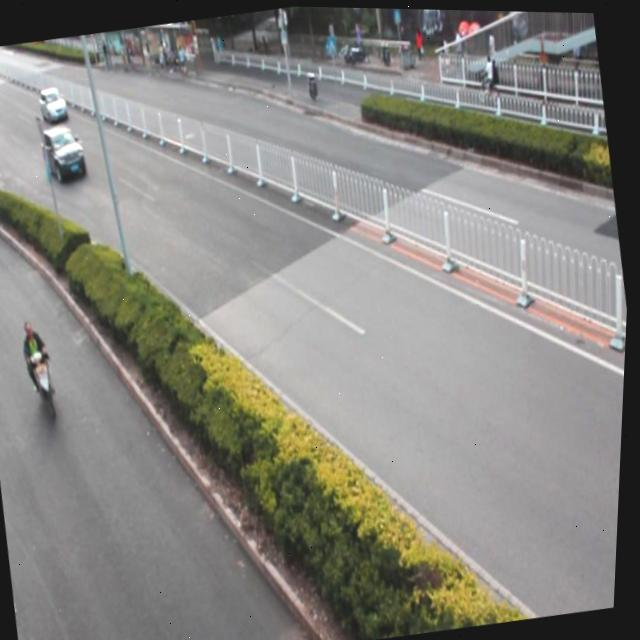car: (40, 123, 90, 185), (38, 86, 71, 124)
